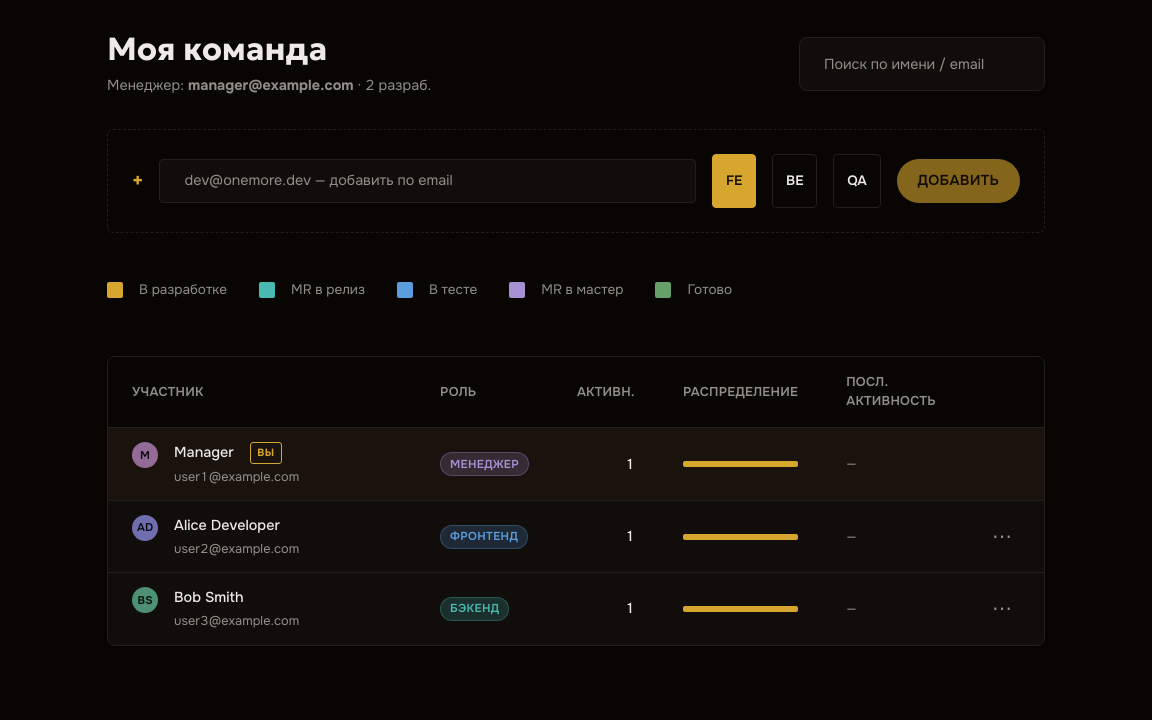
Test: TeamPage › filters roster by displayName case-insensitive
Check: the text "Alice Developer" is shown, box [174, 516, 280, 534]
Check: the text "Bob Smith" is shown, box [174, 588, 244, 606]
In the field with placeholder "Поиск по имени / email": (922, 64) [799, 37, 1045, 91], type "alice"
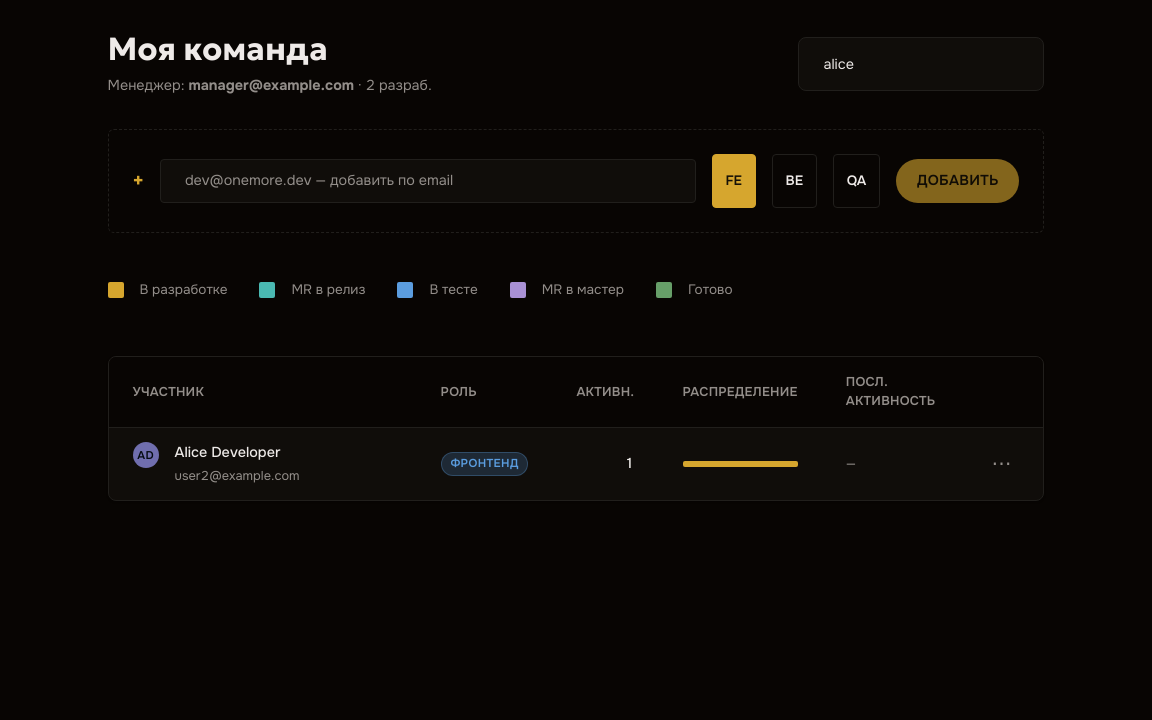
Check: the text "Alice Developer" is shown, box [174, 443, 280, 461]
Check: the text "Bob Smith" is gone
